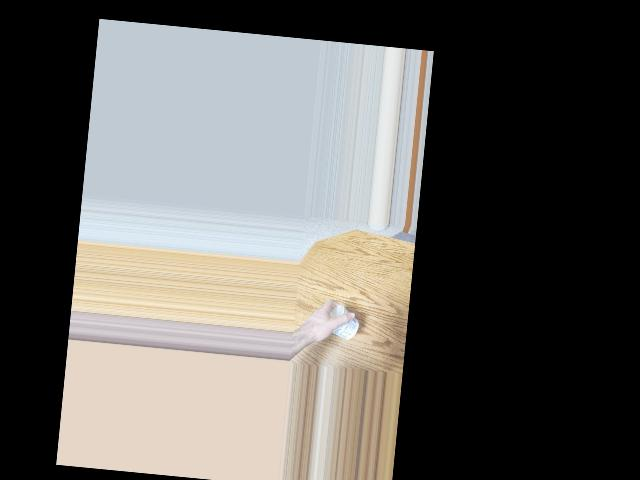cotage: (327, 303, 361, 344)
